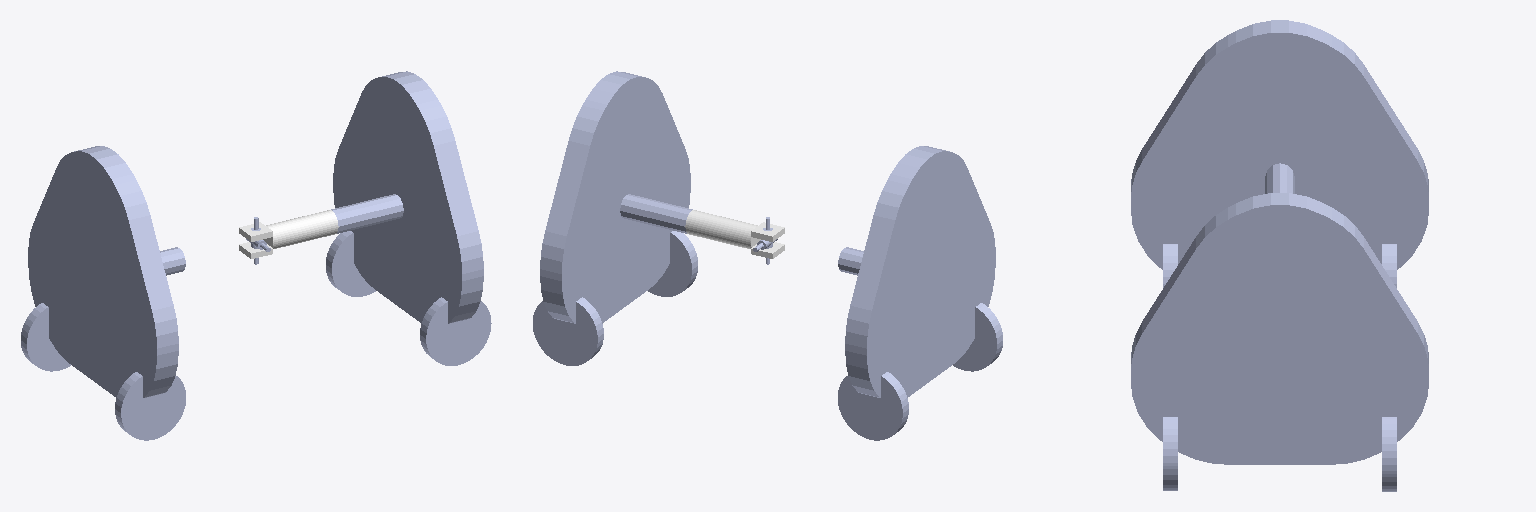
URDF robot description (3D_ver1):
<?xml version="1.0" encoding="utf-8"?>
<!-- This URDF was automatically created by SolidWorks to URDF Exporter! Originally created by [author] ([email redacted]) 
     Commit Version: 1.6.0-1-g15f4949  Build Version: 1.6.7594.29634
     For more information, please see http://wiki.ros.org/sw_urdf_exporter -->
<robot
  name="3D_ver1">
  <link
    name="base">
    <inertial>
      <origin
        xyz="0.077437 0.010718 0.014827"
        rpy="0 0 0" />
      <mass
        value="0.0794" />
      <inertia
        ixx="9.6765E-05"
        ixy="2.4642E-09"
        ixz="6.2069E-12"
        iyy="5.0102E-05"
        iyz="6.4522E-11"
        izz="5.0128E-05" />
    </inertial>
    <visual>
      <origin
        xyz="0 0 0"
        rpy="0 0 0" />
      <geometry>
        <mesh
          filename="package://3D_ver1/meshes/base.STL" />
      </geometry>
      <material
        name="">
        <color
          rgba="0.79216 0.81961 0.93333 1" />
      </material>
    </visual>
    <collision>
      <origin
        xyz="0 0 0"
        rpy="0 0 0" />
      <geometry>
        <mesh
          filename="package://3D_ver1/meshes/base.STL" />
      </geometry>
    </collision>
  </link>
  <link
    name="wheel_backright">
    <inertial>
      <origin
        xyz="1.3878E-17 1.3299E-06 -0.0025"
        rpy="0 0 0" />
      <mass
        value="0.0035028" />
      <inertia
        ixx="2.0609E-07"
        ixy="6.6174E-24"
        ixz="-8.9791E-23"
        iyy="2.0608E-07"
        iyz="-5.0635E-24"
        izz="3.9757E-07" />
    </inertial>
    <visual>
      <origin
        xyz="0 0 0"
        rpy="0 0 0" />
      <geometry>
        <mesh
          filename="package://3D_ver1/meshes/wheel_backright.STL" />
      </geometry>
      <material
        name="">
        <color
          rgba="0.79216 0.81961 0.93333 1" />
      </material>
    </visual>
    <collision>
      <origin
        xyz="0 0 0"
        rpy="0 0 0" />
      <geometry>
        <mesh
          filename="package://3D_ver1/meshes/wheel_backright.STL" />
      </geometry>
    </collision>
  </link>
  <joint
    name="wheel1"
    type="continuous">
    <origin
      xyz="0.078031 0.020173 -0.029026"
      rpy="1.5708 0.20072 0" />
    <parent
      link="base" />
    <child
      link="wheel_backright" />
    <axis
      xyz="0 0 1" />
  </joint>
  <link
    name="wheel_backleft">
    <inertial>
      <origin
        xyz="1.3878E-17 1.3299E-06 0.0025"
        rpy="0 0 0" />
      <mass
        value="0.0035028" />
      <inertia
        ixx="2.0609E-07"
        ixy="-3.0159E-26"
        ixz="2.2058E-24"
        iyy="2.0608E-07"
        iyz="2.5768E-27"
        izz="3.9757E-07" />
    </inertial>
    <visual>
      <origin
        xyz="0 0 0"
        rpy="0 0 0" />
      <geometry>
        <mesh
          filename="package://3D_ver1/meshes/wheel_backleft.STL" />
      </geometry>
      <material
        name="">
        <color
          rgba="0.79216 0.81961 0.93333 1" />
      </material>
    </visual>
    <collision>
      <origin
        xyz="0 0 0"
        rpy="0 0 0" />
      <geometry>
        <mesh
          filename="package://3D_ver1/meshes/wheel_backleft.STL" />
      </geometry>
    </collision>
  </link>
  <joint
    name="wheel2"
    type="continuous">
    <origin
      xyz="0.078031 -0.049827 -0.029026"
      rpy="1.5708 0 0" />
    <parent
      link="base" />
    <child
      link="wheel_backleft" />
    <axis
      xyz="0 0 1" />
  </joint>
  <link
    name="slide_back">
    <inertial>
      <origin
        xyz="0 0 0"
        rpy="0 0 0" />
      <mass
        value="0" />
      <inertia
        ixx="0"
        ixy="0"
        ixz="0"
        iyy="0"
        iyz="0"
        izz="0" />
    </inertial>
    <visual>
      <origin
        xyz="0 0 0"
        rpy="0 0 0" />
      <geometry>
        <mesh
          filename="package://3D_ver1/meshes/slide_back.STL" />
      </geometry>
      <material
        name="">
        <color
          rgba="1 1 1 1" />
      </material>
    </visual>
    <collision>
      <origin
        xyz="0 0 0"
        rpy="0 0 0" />
      <geometry>
        <mesh
          filename="package://3D_ver1/meshes/slide_back.STL" />
      </geometry>
    </collision>
  </link>
  <joint
    name="slide1"
    type="prismatic">
    <origin
      xyz="0.076031 -0.014827 0.01077"
      rpy="3.1416 0 1.5708" />
    <parent
      link="base" />
    <child
      link="slide_back" />
    <axis
      xyz="0 0 0" />
    <limit
      lower="-0.05"
      upper="0.05"
      effort="0"
      velocity="0" />
  </joint>
  <link
    name="universal_pin">
    <inertial>
      <origin
        xyz="1.7347E-18 1.9284E-09 1.9284E-09"
        rpy="0 0 0" />
      <mass
        value="0.00027149" />
      <inertia
        ixx="5.9356E-09"
        ixy="4.4722E-15"
        ixz="-4.4722E-15"
        iyy="3.2007E-09"
        iyz="1.0097E-21"
        izz="3.2007E-09" />
    </inertial>
    <visual>
      <origin
        xyz="0 0 0"
        rpy="0 0 0" />
      <geometry>
        <mesh
          filename="package://3D_ver1/meshes/universal_pin.STL" />
      </geometry>
      <material
        name="">
        <color
          rgba="0.79216 0.81961 0.93333 1" />
      </material>
    </visual>
    <collision>
      <origin
        xyz="0 0 0"
        rpy="0 0 0" />
      <geometry>
        <mesh
          filename="package://3D_ver1/meshes/universal_pin.STL" />
      </geometry>
    </collision>
  </link>
  <joint
    name="yaw"
    type="revolute">
    <origin
      xyz="0 -0.068 0"
      rpy="-1.5708 0 1.5708" />
    <parent
      link="slide_back" />
    <child
      link="universal_pin" />
    <axis
      xyz="0 0 0" />
    <limit
      lower="-1.5708"
      upper="1.5708"
      effort="0"
      velocity="0" />
  </joint>
  <link
    name="slide_front">
    <inertial>
      <origin
        xyz="-1.7347E-18 -0.05113 0"
        rpy="0 0 0" />
      <mass
        value="0.0027934" />
      <inertia
        ixx="3.4715E-07"
        ixy="1.0436E-23"
        ixz="-2.7357E-25"
        iyy="3.9932E-08"
        iyz="-1.2465E-23"
        izz="3.4942E-07" />
    </inertial>
    <visual>
      <origin
        xyz="0 0 0"
        rpy="0 0 0" />
      <geometry>
        <mesh
          filename="package://3D_ver1/meshes/slide_front.STL" />
      </geometry>
      <material
        name="">
        <color
          rgba="0.79216 0.81961 0.93333 1" />
      </material>
    </visual>
    <collision>
      <origin
        xyz="0 0 0"
        rpy="0 0 0" />
      <geometry>
        <mesh
          filename="package://3D_ver1/meshes/slide_front.STL" />
      </geometry>
    </collision>
  </link>
  <joint
    name="pitch"
    type="revolute">
    <origin
      xyz="-0.068 0 0"
      rpy="1.5708 -1.5708 0" />
    <parent
      link="universal_pin" />
    <child
      link="slide_front" />
    <axis
      xyz="0 0 0" />
    <limit
      lower="-1.5708"
      upper="1.5708"
      effort="0"
      velocity="0" />
  </joint>
  <link
    name="head">
    <inertial>
      <origin
        xyz="-2.3602E-08 -0.0014065 -5.2502E-05"
        rpy="0 0 0" />
      <mass
        value="0.0794" />
      <inertia
        ixx="5.0128E-05"
        ixy="5.0032E-12"
        ixz="-6.4522E-11"
        iyy="9.6765E-05"
        iyz="-2.4642E-09"
        izz="5.0102E-05" />
    </inertial>
    <visual>
      <origin
        xyz="0 0 0"
        rpy="0 0 0" />
      <geometry>
        <mesh
          filename="package://3D_ver1/meshes/head.STL" />
      </geometry>
      <material
        name="">
        <color
          rgba="0.79216 0.81961 0.93333 1" />
      </material>
    </visual>
    <collision>
      <origin
        xyz="0 0 0"
        rpy="0 0 0" />
      <geometry>
        <mesh
          filename="package://3D_ver1/meshes/head.STL" />
      </geometry>
    </collision>
  </link>
  <joint
    name="slide2"
    type="prismatic">
    <origin
      xyz="0 0 0"
      rpy="3.1416 0 0" />
    <parent
      link="slide_front" />
    <child
      link="head" />
    <axis
      xyz="0 0 0" />
    <limit
      lower="-0.05"
      upper="0.05"
      effort="0"
      velocity="0" />
  </joint>
  <link
    name="wheel_frontright">
    <inertial>
      <origin
        xyz="0 1.3299E-06 -0.0025"
        rpy="0 0 0" />
      <mass
        value="0.0035028" />
      <inertia
        ixx="2.0609E-07"
        ixy="-4.1854E-25"
        ixz="-3.4801E-26"
        iyy="2.0608E-07"
        iyz="3.5877E-27"
        izz="3.9757E-07" />
    </inertial>
    <visual>
      <origin
        xyz="0 0 0"
        rpy="0 0 0" />
      <geometry>
        <mesh
          filename="package://3D_ver1/meshes/wheel_frontright.STL" />
      </geometry>
      <material
        name="">
        <color
          rgba="0.79216 0.81961 0.93333 1" />
      </material>
    </visual>
    <collision>
      <origin
        xyz="0 0 0"
        rpy="0 0 0" />
      <geometry>
        <mesh
          filename="package://3D_ver1/meshes/wheel_frontright.STL" />
      </geometry>
    </collision>
  </link>
  <joint
    name="wheel3"
    type="continuous">
    <origin
      xyz="-0.035 -0.002 -0.039796"
      rpy="1.5708 0 1.5708" />
    <parent
      link="head" />
    <child
      link="wheel_frontright" />
    <axis
      xyz="0 0 1" />
  </joint>
  <link
    name="wheel_frontleft">
    <inertial>
      <origin
        xyz="0 1.3299E-06 0.0025"
        rpy="0 0 0" />
      <mass
        value="0.0035028" />
      <inertia
        ixx="2.0609E-07"
        ixy="-4.1841E-25"
        ixz="2.1541E-24"
        iyy="2.0608E-07"
        iyz="7.9203E-27"
        izz="3.9757E-07" />
    </inertial>
    <visual>
      <origin
        xyz="0 0 0"
        rpy="0 0 0" />
      <geometry>
        <mesh
          filename="package://3D_ver1/meshes/wheel_frontleft.STL" />
      </geometry>
      <material
        name="">
        <color
          rgba="0.79216 0.81961 0.93333 1" />
      </material>
    </visual>
    <collision>
      <origin
        xyz="0 0 0"
        rpy="0 0 0" />
      <geometry>
        <mesh
          filename="package://3D_ver1/meshes/wheel_frontleft.STL" />
      </geometry>
    </collision>
  </link>
  <joint
    name="wheel4"
    type="continuous">
    <origin
      xyz="0.035 -0.002 -0.039796"
      rpy="1.5708 0 1.5708" />
    <parent
      link="head" />
    <child
      link="wheel_frontleft" />
    <axis
      xyz="0 0 1" />
  </joint>
</robot>

--- What the picture shows (computed from the rendered views, not written in the file) ---
Views: 3 orthographic renders of the robot side by side, from view 1: azimuth 30°, elevation 25°; view 2: azimuth 150°, elevation 25°; view 3: azimuth 270°, elevation 25°.
Model 3D_ver1 with 9 links and 8 joints (2 revolute, 4 continuous, 2 prismatic), rooted at base, posed every joint at zero.
Links seen in each view (by area): view 1: base, wheel_frontleft, wheel_backright, wheel_backleft, wheel_frontright, slide_back, head; view 2: base, wheel_frontleft, wheel_backright, wheel_frontright, slide_back, head, wheel_backleft; view 3: base, wheel_frontright, wheel_backright, wheel_frontleft, head, wheel_backleft.
Boxes of the visible links, <box> form: base: <box>331,71,483,334</box>; wheel_frontleft: <box>28,146,185,440</box>; wheel_backright: <box>49,231,375,397</box>; wheel_backleft: <box>49,297,491,389</box>; wheel_frontright: <box>21,303,178,403</box>; slide_back: <box>239,210,338,258</box>; head: <box>121,230,185,408</box>; base: <box>540,71,692,334</box>; wheel_frontleft: <box>838,146,1002,397</box>; wheel_backright: <box>533,264,978,408</box>; wheel_frontright: <box>838,372,908,440</box>; slide_back: <box>685,210,784,258</box>; head: <box>973,182,995,306</box>; wheel_backleft: <box>648,231,697,296</box>; base: <box>1131,193,1428,464</box>; wheel_frontright: <box>1131,77,1396,287</box>; wheel_backright: <box>1214,33,1428,491</box>; wheel_frontleft: <box>1131,20,1423,287</box>; head: <box>1375,109,1428,269</box>; wheel_backleft: <box>1163,36,1270,490</box>.
Bounding box of the posed robot: 0.17 × 0.1025 × 0.1092 m (x, y, z).
8 mesh visuals loaded from 9 distinct referenced files (8 binary STL); not drawn: 1 (reference not matched to a file when rendering).